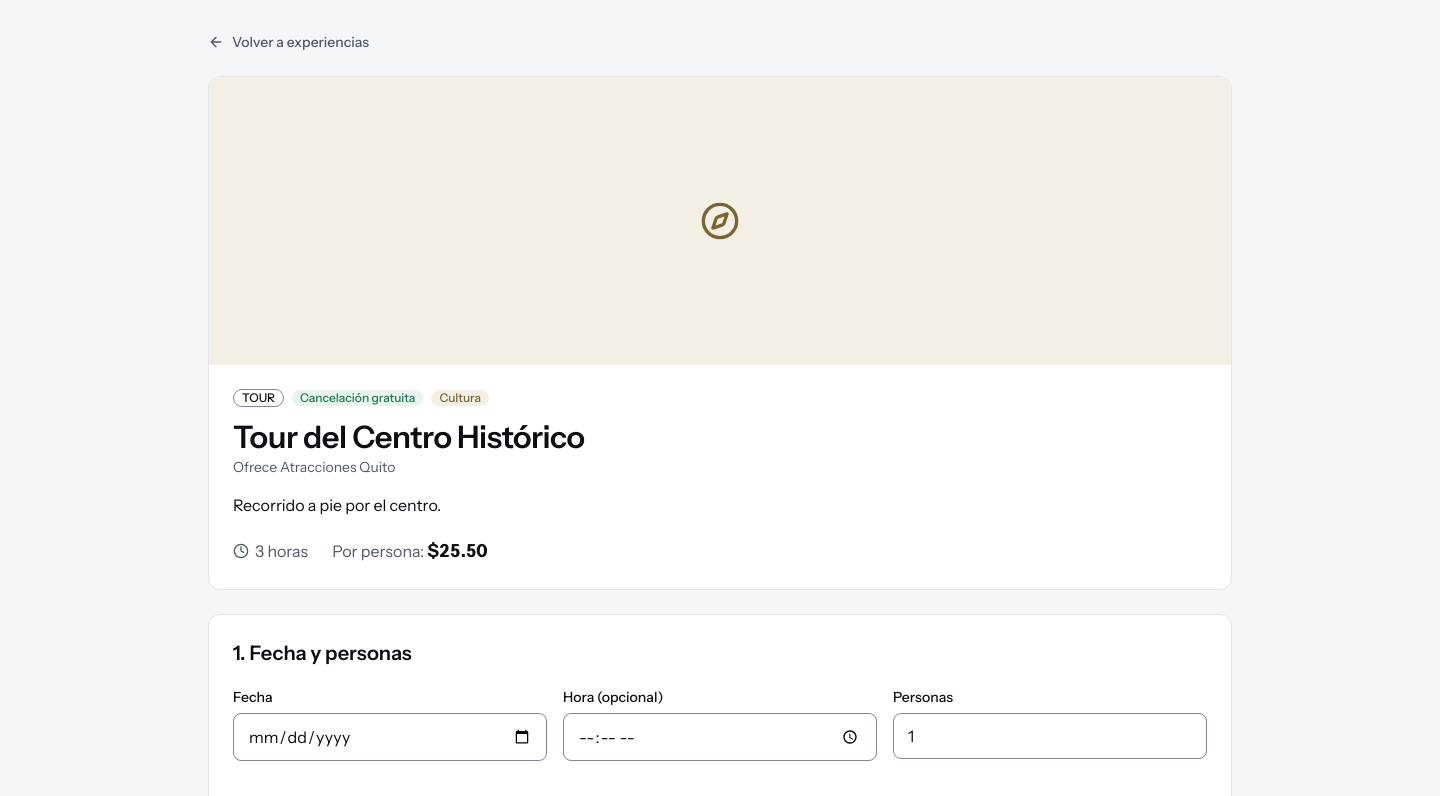
Test: Experience reservation › updates the estimated total with the number of people
Replace the text in the number field labelled "Personas" with "3" at (1050, 736), box [893,713,1207,759]
(page scrolled)
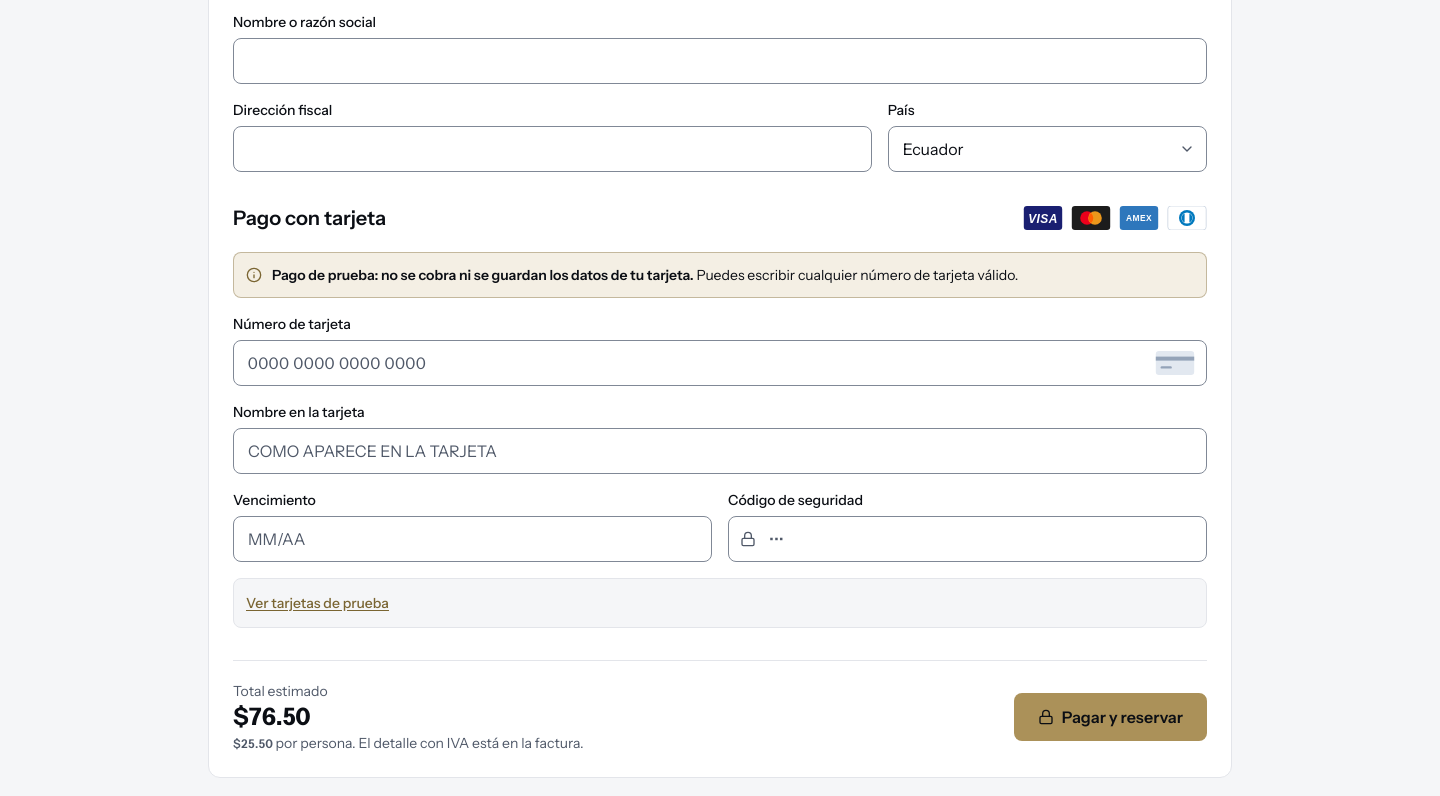
Now the text "$76.50" is shown, box [233,701,310,733]
